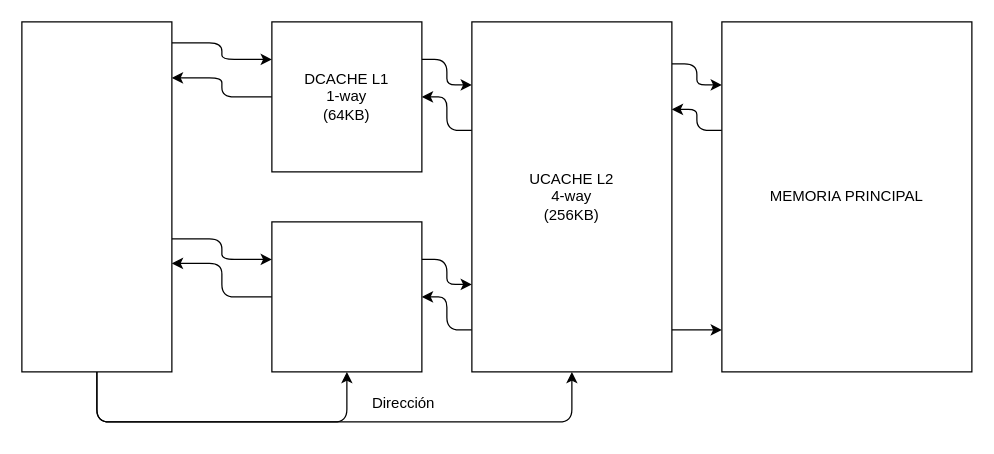
This 994x454 diagram has some shape labels left out. Each missing label, with the centre of its shape:
"CPU" belongs at point (96, 196).
"ICACHE L1 1-way (64KB)" belongs at point (346, 296).
